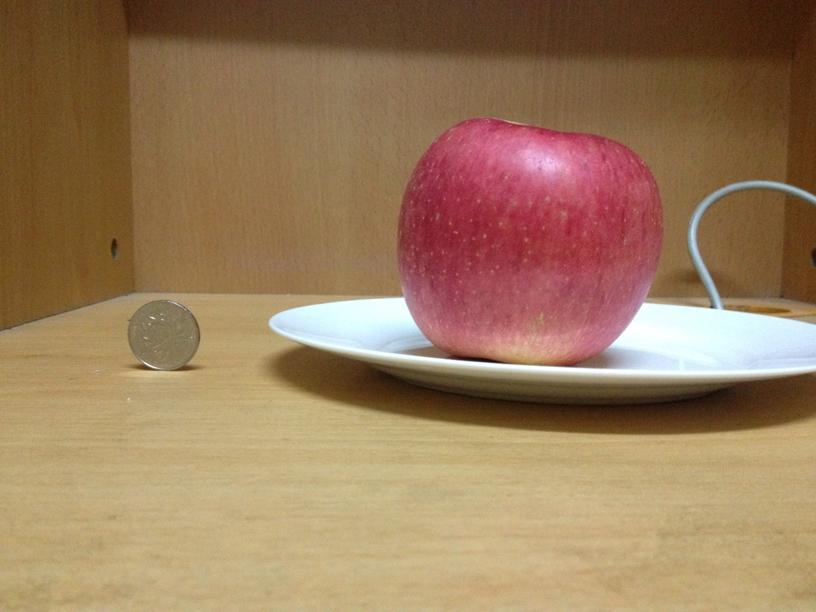apple: (392, 111, 662, 364)
coin: (124, 300, 200, 370)
